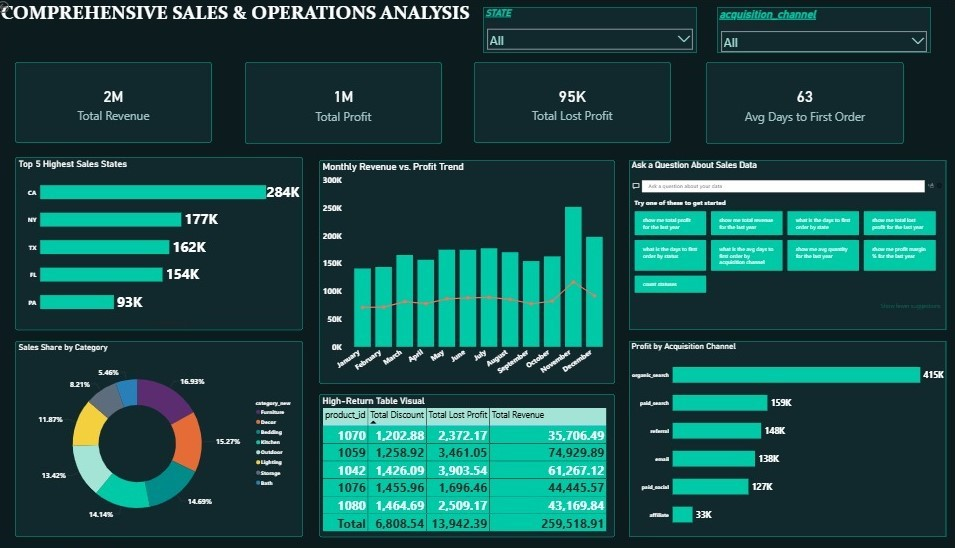

The dashboard page shown, as its layout file describes it:
{"tool":"powerbi","page":{"name":"Page 1","canvas":[2400,1400],"ordinal":0},"visuals":[{"type":"textbox","box":[10.6,0,1379.4,268.4],"z":0},{"type":"card","title":"TOTAL REVENUE","fields":{"Values":["customers.Total Revenue"]},"box":[50.5,156.8,491.7,202],"z":1000},{"type":"card","title":"TOTAL REVENUE","fields":{"Values":["customers.Total Profit"]},"box":[624.6,156.8,491.7,204.7],"z":2000},{"type":"card","title":"TOTAL REVENUE","fields":{"Values":["customers.Total Lost Profit"]},"box":[1198.7,156.8,491.7,202],"z":3000},{"type":"card","title":"TOTAL REVENUE","fields":{"Values":["customers.Avg Days to First Order"]},"box":[1778.1,156.8,494.4,204.7],"z":4000},{"type":"clusteredBarChart","title":"Top 5 Highest Sales States","fields":{"Category":["customers.state"],"Y":["customers.Total Revenue"]},"box":[50,395,720,432.5],"z":5000},{"type":"donutChart","title":"Sales Share by Category","fields":{"Category":["products.category_new"],"Y":["customers.Total Profit"]},"box":[50,855,720,490],"z":6000},{"type":"barChart","title":"Profit by Acquisition Channel","fields":{"Category":["customers.acquisition_channel"],"Y":["customers.Total Profit"]},"box":[1585,855,792.5,490],"z":7000},{"type":"lineClusteredColumnComboChart","title":"Monthly Revenue vs. Profit Trend","fields":{"Category":["orders.order_date.Variation.Date Hierarchy.Month"],"Y":["customers.Total Revenue"],"Y2":["customers.Total Profit"]},"box":[810,402.5,740,560],"z":8000},{"type":"tableEx","title":"High-Return Table Visual","fields":{"Values":["order_item.product_id","Sum(order_item.discount_amount)","customers.Total Lost Profit","customers.Total Revenue"]},"box":[810,987.5,740,357.5],"z":9000},{"type":"actionButton","box":[0,0,100,40],"z":10000},{"type":"slicer","title":"STATE","fields":{"Values":["customers.state"]},"box":[1220,20,535,115],"z":11000},{"type":"slicer","title":"acquisition_channel","fields":{"Values":["customers.acquisition_channel"]},"box":[1805,20,535,115],"z":12000},{"type":"qnaVisual","title":"Ask a Question About Sales Data","box":[1585,402.5,792.5,425],"z":12001}]}

Visuals, with their boxes in screenshot pixels (x1, y1, x2, y2), scaled from the page's 2400x1400 canvas onto the 955x548 screenshot:
textbox: select_region(4, 0, 553, 105)
"TOTAL REVENUE" card: select_region(20, 61, 216, 140)
"TOTAL REVENUE" card: select_region(249, 61, 444, 142)
"TOTAL REVENUE" card: select_region(477, 61, 673, 140)
"TOTAL REVENUE" card: select_region(708, 61, 904, 142)
"Top 5 Highest Sales States" clusteredBarChart: select_region(20, 155, 306, 324)
"Sales Share by Category" donutChart: select_region(20, 335, 306, 526)
"Profit by Acquisition Channel" barChart: select_region(631, 335, 946, 526)
"Monthly Revenue vs. Profit Trend" lineClusteredColumnComboChart: select_region(322, 158, 617, 377)
"High-Return Table Visual" tableEx: select_region(322, 387, 617, 526)
actionButton: select_region(0, 0, 40, 16)
"STATE" slicer: select_region(485, 8, 698, 53)
"acquisition_channel" slicer: select_region(718, 8, 931, 53)
"Ask a Question About Sales Data" qnaVisual: select_region(631, 158, 946, 324)
